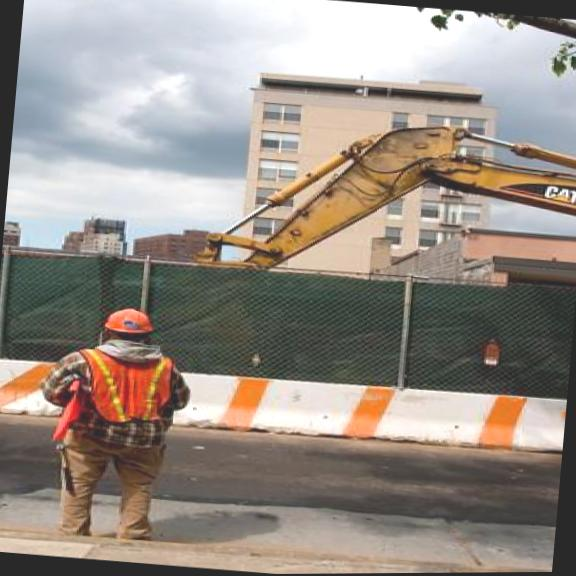safety_vest: (68, 338, 178, 428)
